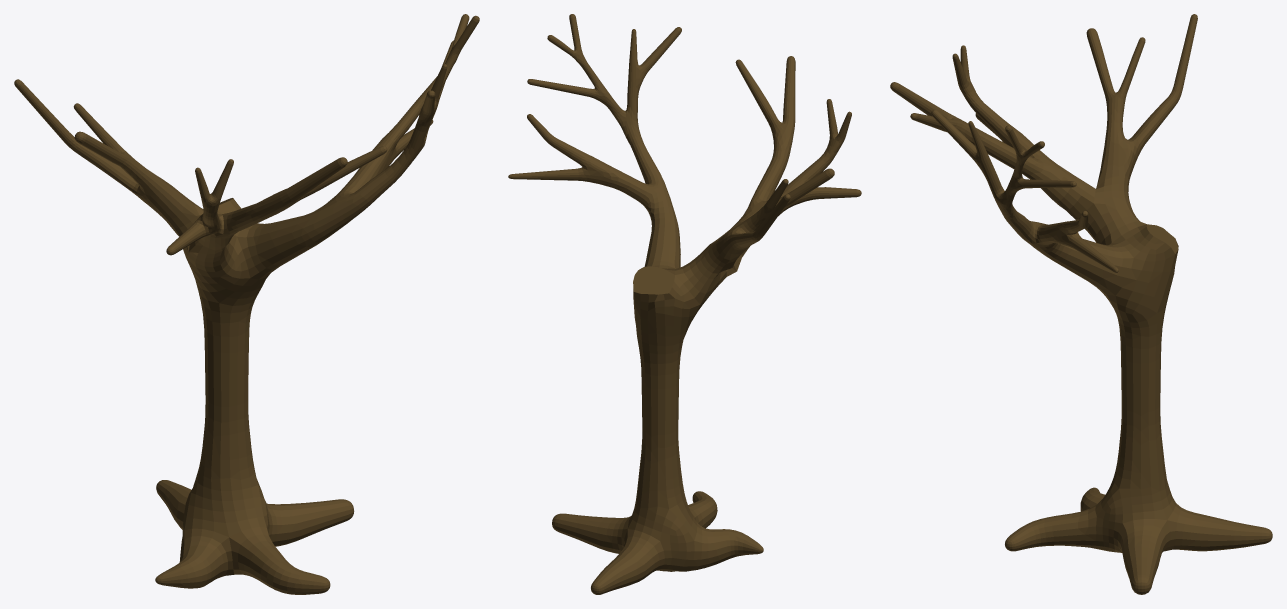
Rendered from TreeMPV2.fbx.
3 renders of one model, left to right at view 1: azimuth 30°, elevation 25°; view 2: azimuth 150°, elevation 25°; view 3: azimuth 270°, elevation 25°, orthographic. The views are drawn at different scales.
Parts seen in each view (by area): view 1: Plane; view 2: Plane; view 3: Plane.
Boxes of the visible parts, x1,y1,x2,y2 form: Plane: (14,14,479,594); Plane: (508,14,861,594); Plane: (890,14,1272,594).
Bounding box in the file's own units: 10.57 × 14.95 × 10.21.
